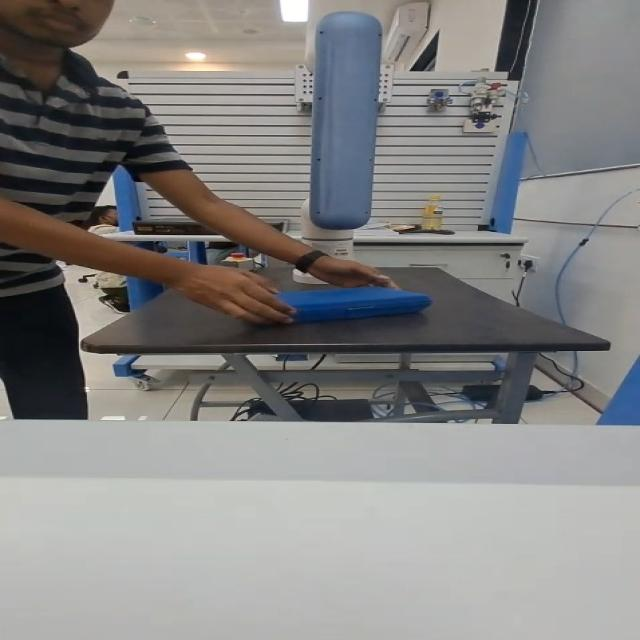top-surface: (286, 289, 406, 303)
